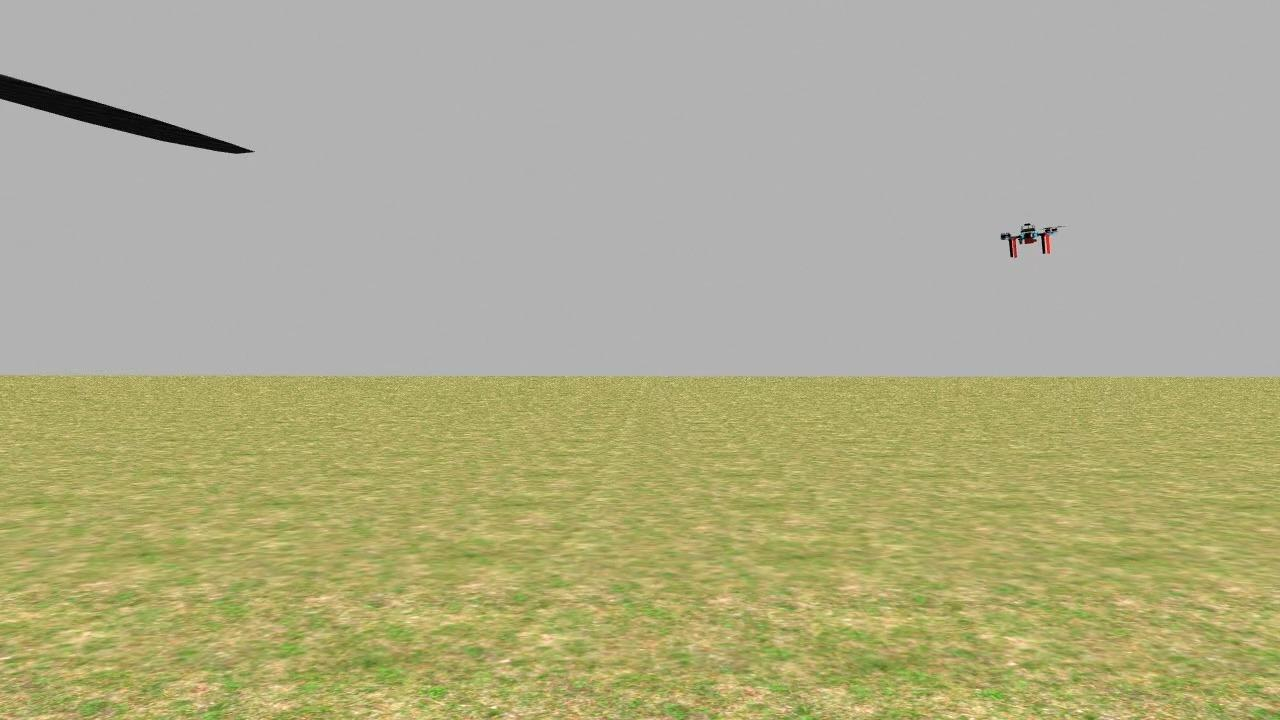UAV: (984, 214, 1068, 266)
